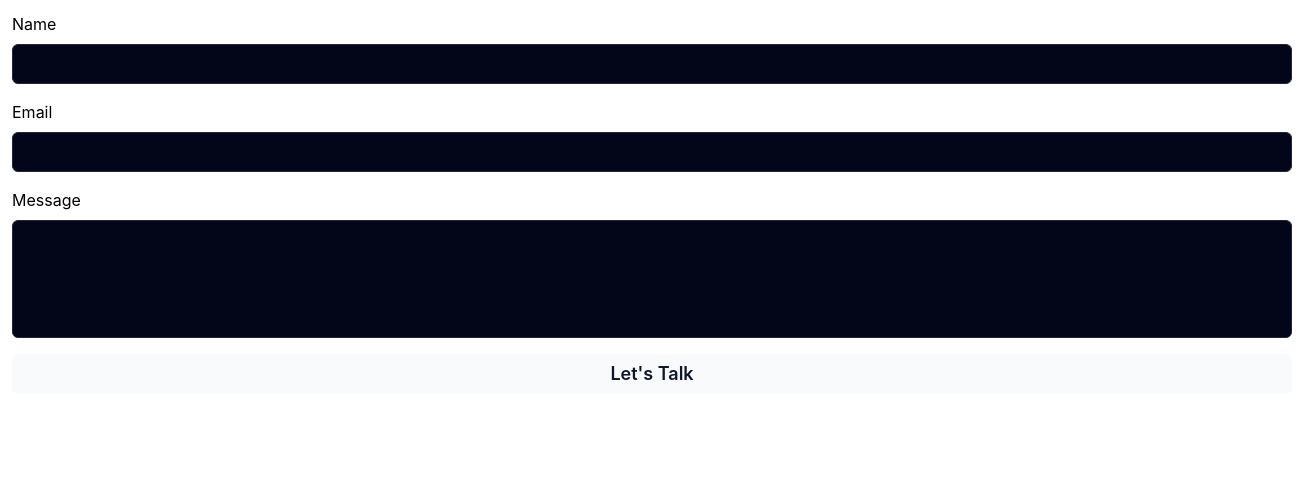
Scenario: ContactForm › shows validation errors for empty fields
Click the button "Let's Talk" at (652, 374), box 12,354 -> 1292,394
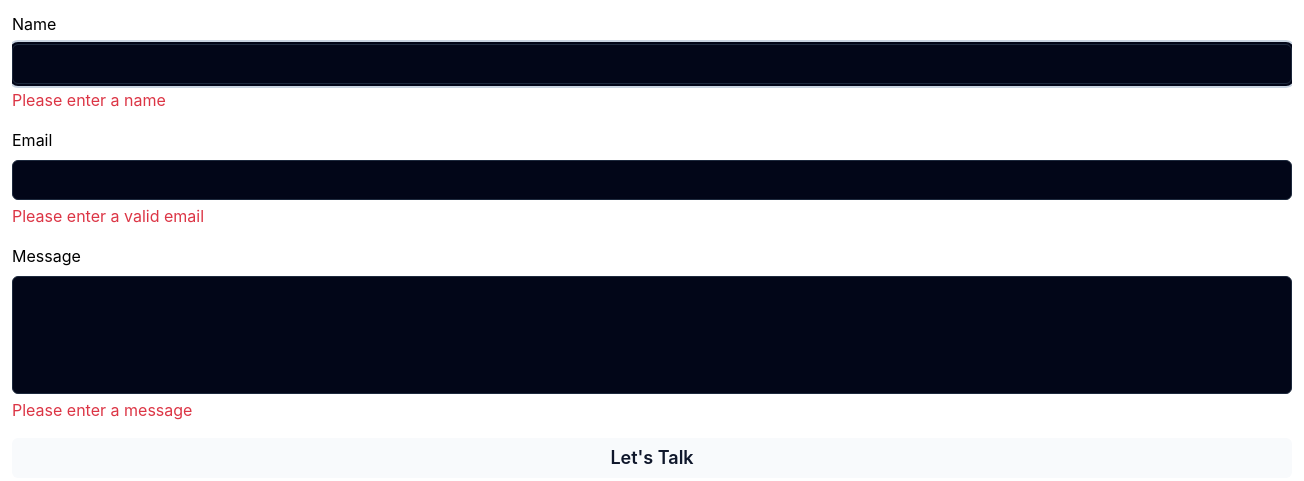
Expected: the text "Please enter a name" is shown, 12,90 -> 166,110
